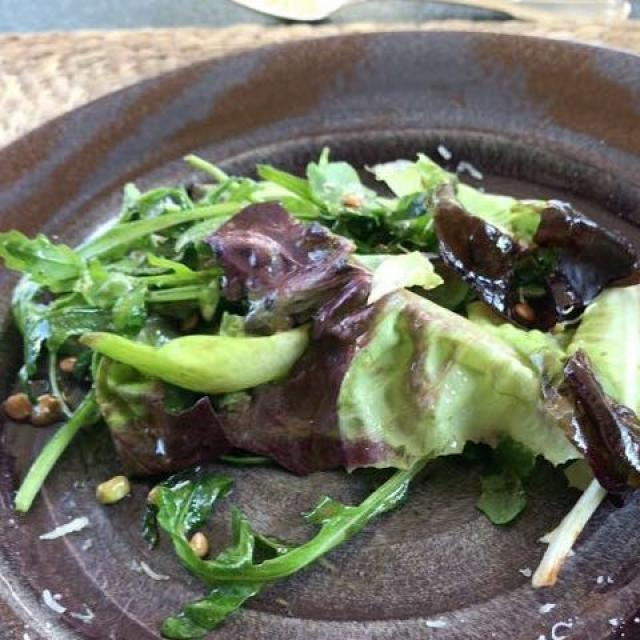nuts: (4, 373, 220, 589)
salad: (13, 151, 633, 611)
